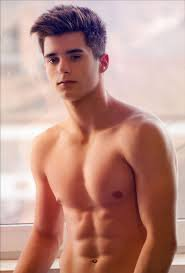noMask: (26, 5, 140, 112)
